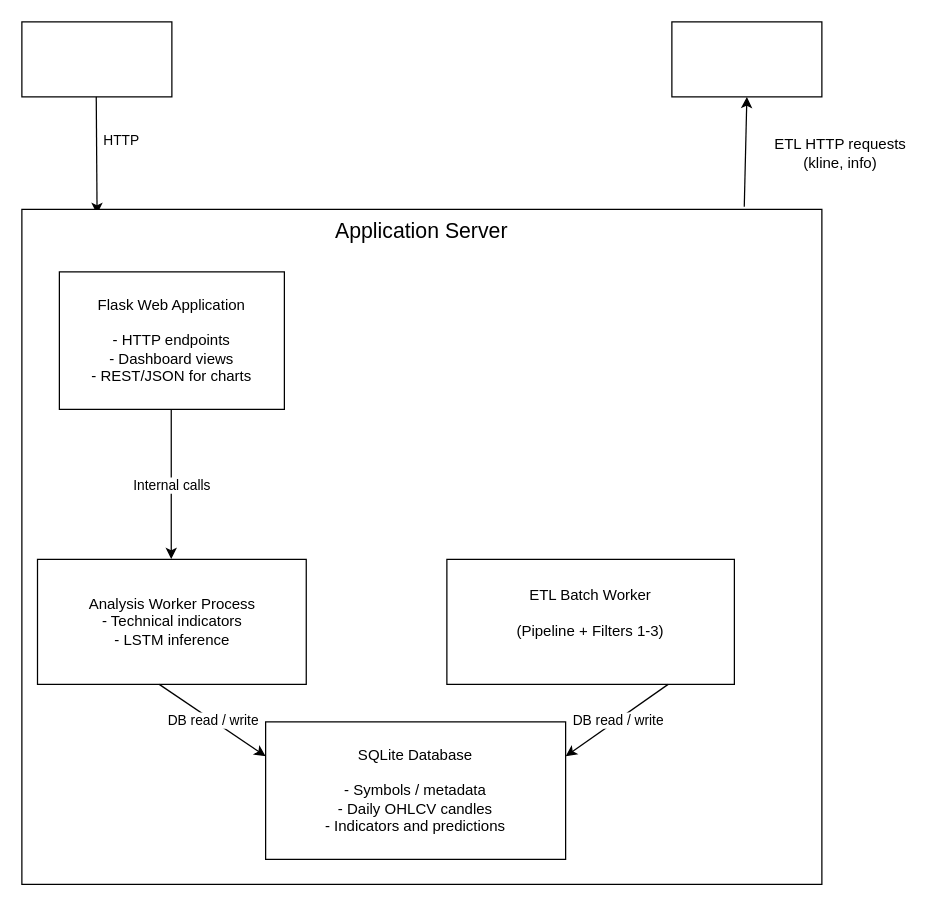
Some shapes in this 931 by 906 pixel diagram are drawn without their labels. Here are the shapes that lost their labels. From the top down, the box of each, then its label:
(21, 21, 172, 97): Web Client User Browser (UI)
(671, 21, 822, 97): Binance REST API External Service
